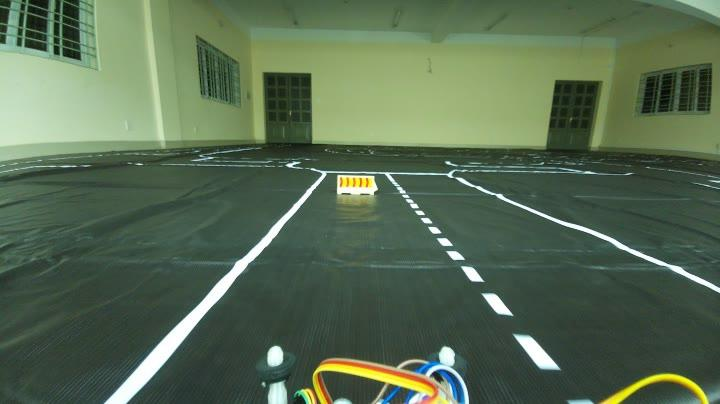roadblock: (328, 169, 386, 203)
